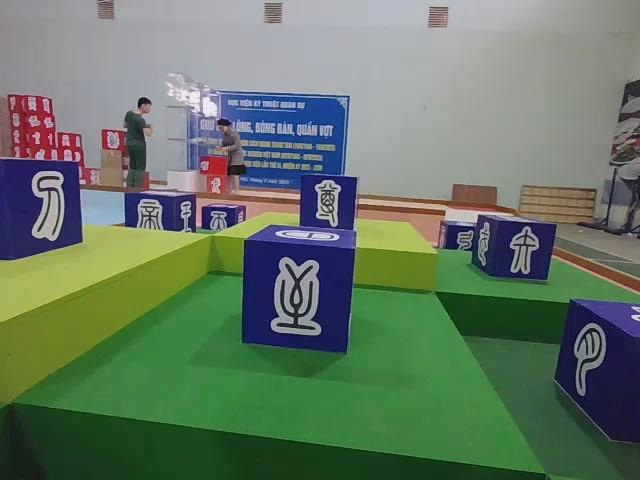R2 Fake Blue: (241, 223, 357, 354), (558, 297, 640, 449), (0, 159, 82, 263), (471, 216, 556, 284), (301, 175, 360, 234), (124, 192, 197, 234), (435, 219, 477, 249), (201, 203, 246, 231)
